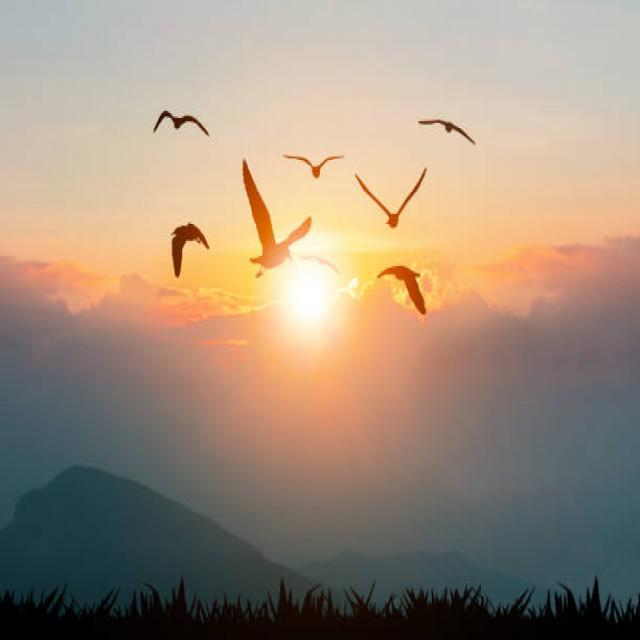bird: (238, 162, 317, 289), (352, 162, 431, 236), (369, 242, 435, 329), (280, 128, 350, 205), (141, 101, 219, 166), (161, 217, 231, 286), (417, 108, 489, 165), (297, 247, 350, 293)
